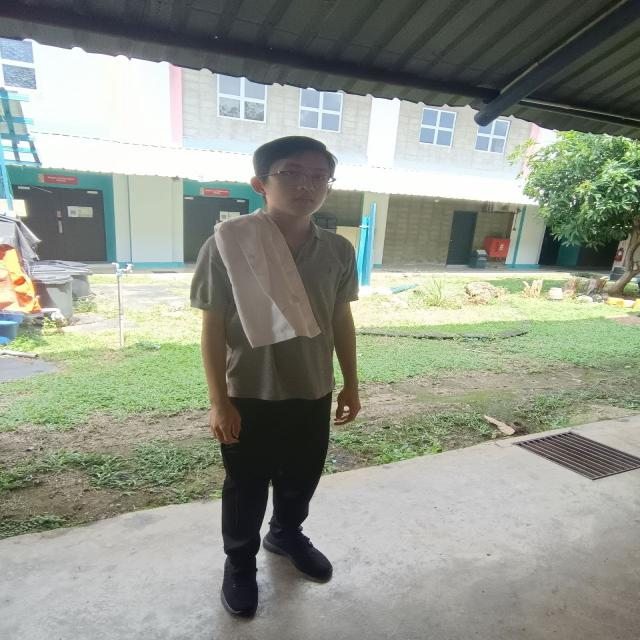person_without_labcoat: (191, 136, 360, 616)
